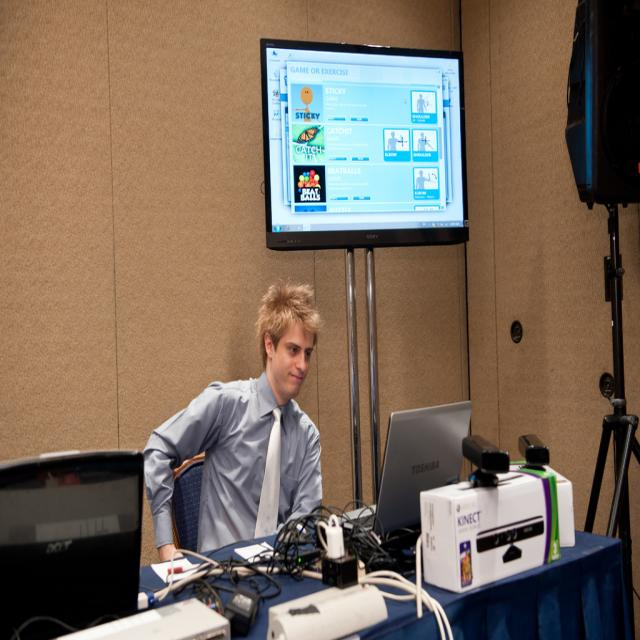chair: (171, 457, 206, 556)
desk: (140, 540, 632, 639)
laptop: (1, 450, 144, 634), (372, 400, 473, 538)
person: (142, 281, 323, 558)
tv: (260, 39, 468, 250)
